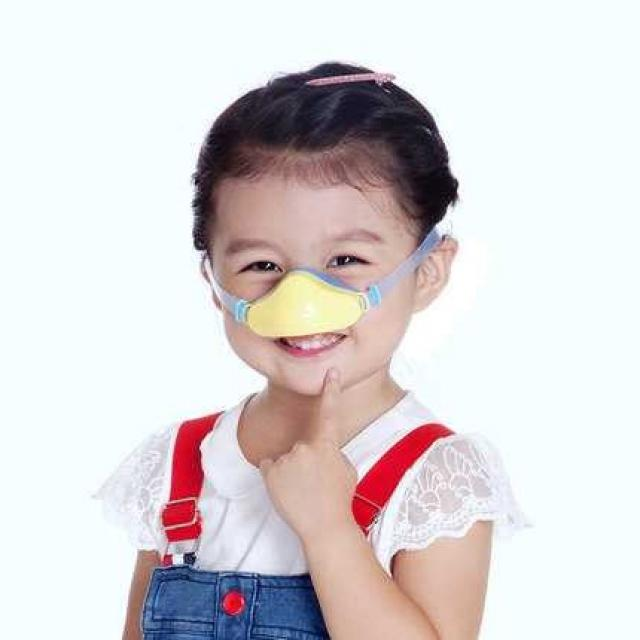mask: (214, 157, 411, 391)
